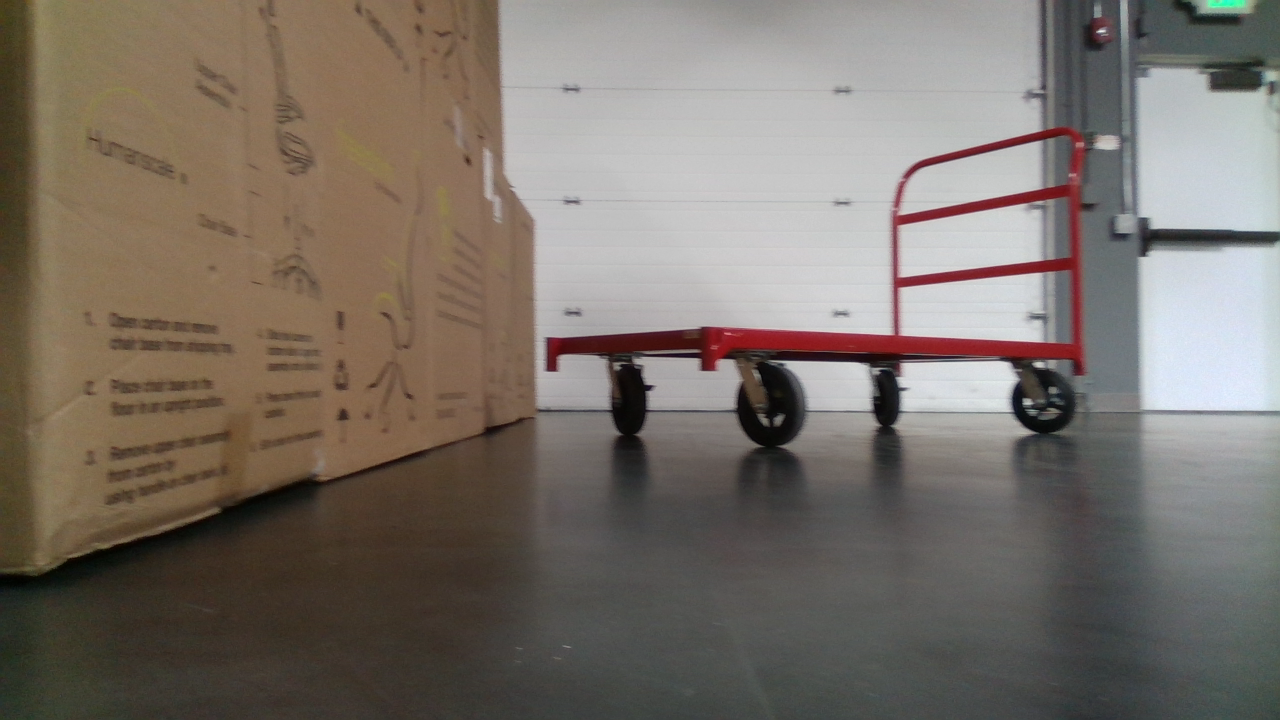Dolly: (543, 119, 1088, 454)
Wheel: (731, 360, 806, 449), (1009, 370, 1077, 435), (608, 363, 651, 439), (868, 371, 902, 427)
